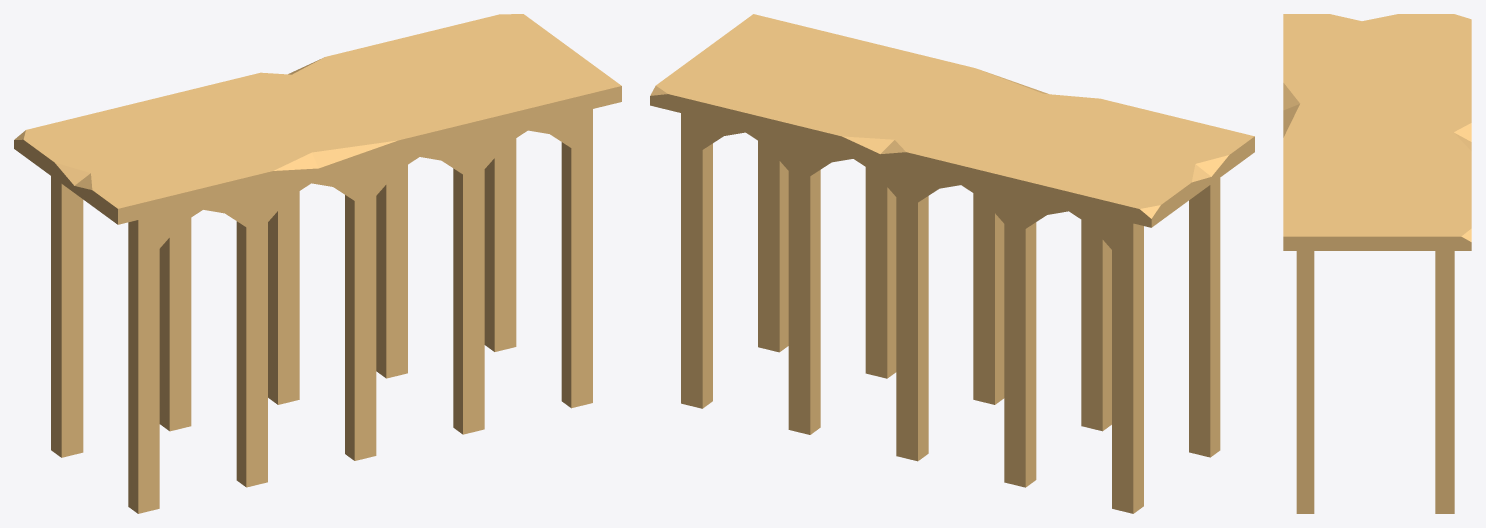
3 views of the same model, side by side, from view 1: azimuth 30°, elevation 25°; view 2: azimuth 150°, elevation 25°; view 3: azimuth 270°, elevation 25° (orthographic). The views are drawn at different scales.
Visible parts, largest first — view 1: Box001; view 2: Box001; view 3: Box001.
Boxes of the visible parts, x1,y1,x2,y2 form: Box001: [14, 14, 621, 513]; Box001: [650, 14, 1254, 513]; Box001: [1283, 14, 1471, 513].
Size of the model in its own units: 12.67 by 7.62 by 4.52.
1 material, 1 textured.
